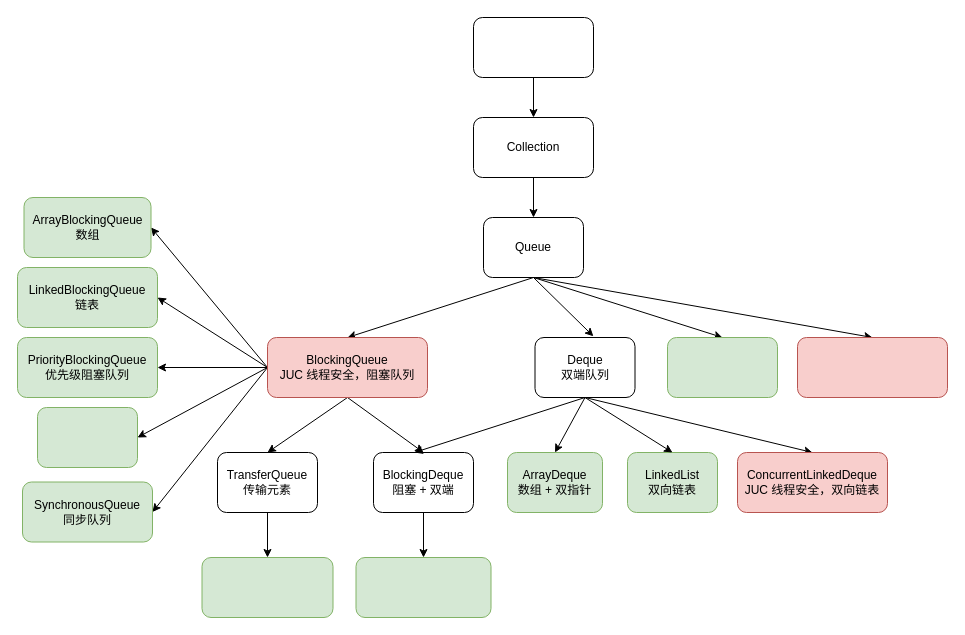
This 965x635 diagram has some shape labels left out. Each missing label, with the centre of its shape:
ConcurrentLinkedQueue JUC 线程安全，链表: point (872, 367)
DelayQueue 延迟队列: point (87, 437)
Iterable 迭代能力: point (533, 47)
LinkedBlockingDeque 双向链表: point (423, 587)
LinkedTransferQueue 链表: point (267, 587)
PriorityQueue 优先级队列: point (722, 367)
